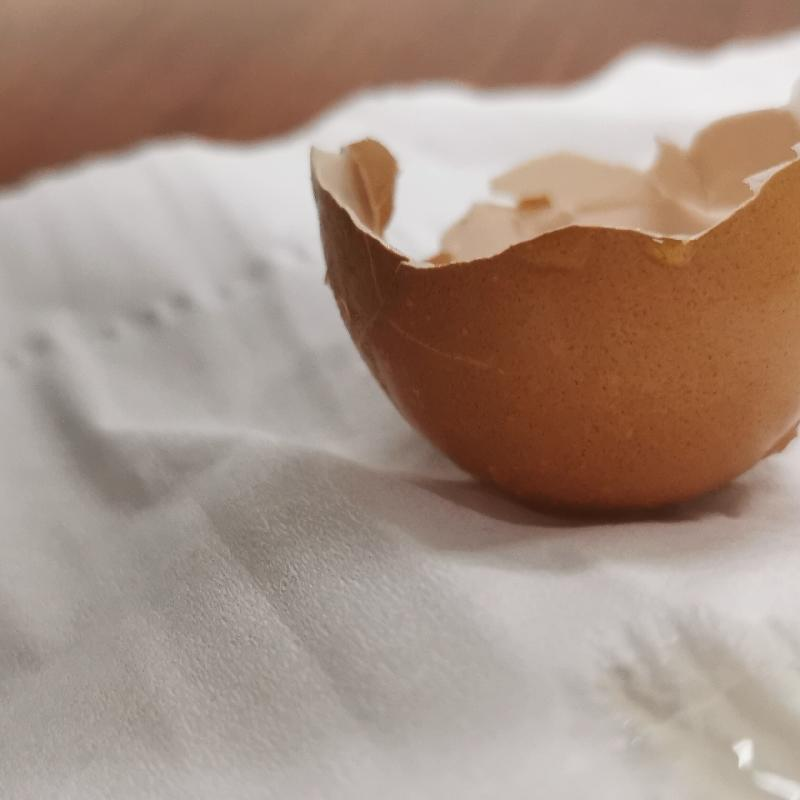eggshell: (306, 111, 800, 515)
